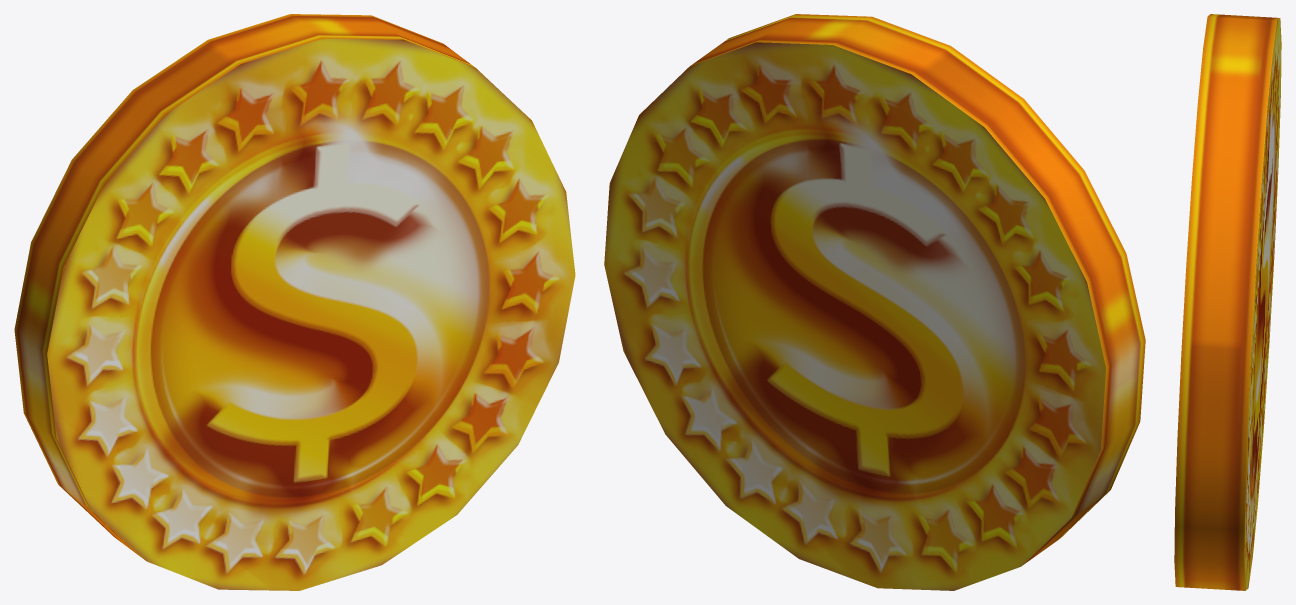
File: bon_money_big.FBX
3 renders of one model, left to right at view 1: azimuth 30°, elevation 25°; view 2: azimuth 150°, elevation 25°; view 3: azimuth 270°, elevation 25°, orthographic. The views are drawn at different scales.
Visible parts, largest first — view 1: bon_money_big; view 2: bon_money_big; view 3: bon_money_big.
Boxes of the visible parts, x1=… form: bon_money_big: x1=14, y1=14, x2=575, y2=590; bon_money_big: x1=604, y1=14, x2=1145, y2=590; bon_money_big: x1=1174, y1=14, x2=1281, y2=590.
Bounding box in the file's own units: 59.52 × 59.47 × 10.99.
